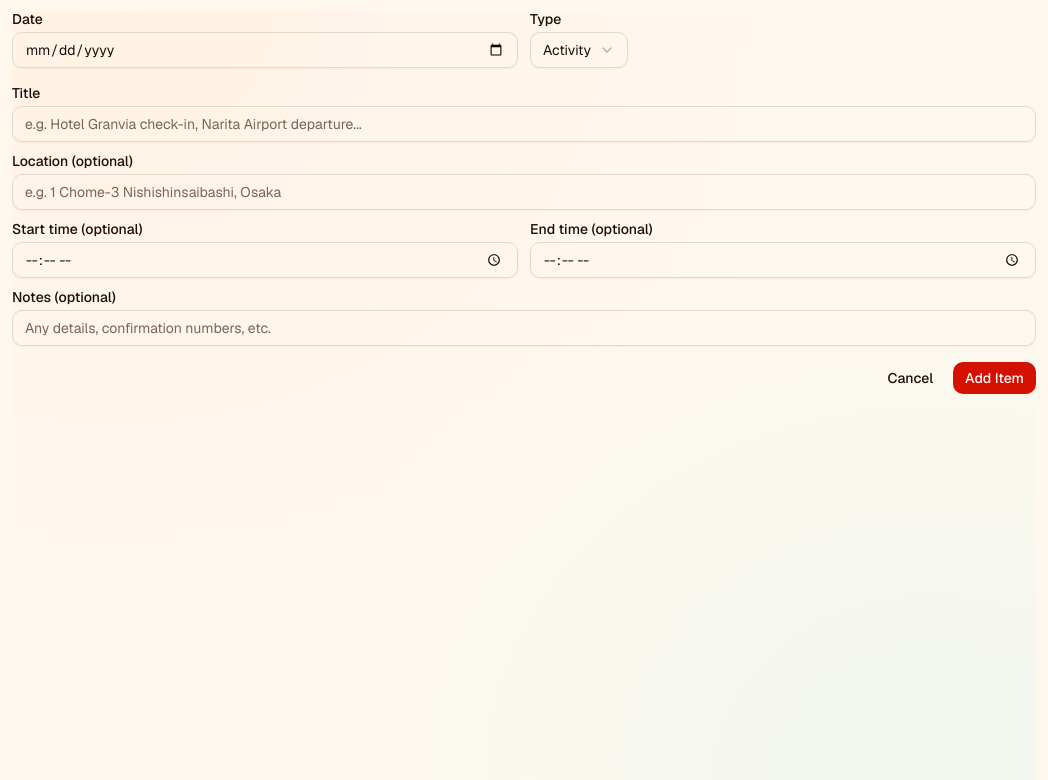
it: ItineraryForm behavior › shows API error message when server returns an error
In the date field labelled "Date": (265, 50) x1=12 y1=32 x2=518 y2=68, type "2026-07-04"
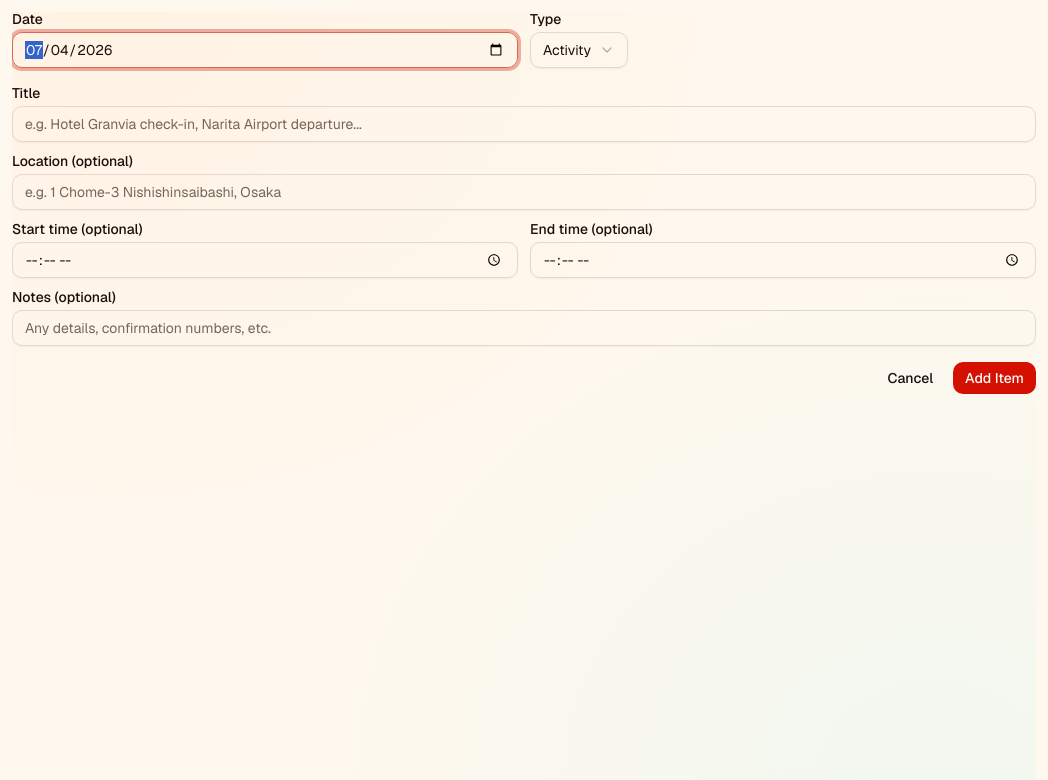
In the field labelled "Title": (524, 124) x1=12 y1=106 x2=1036 y2=142, type "City Tour"
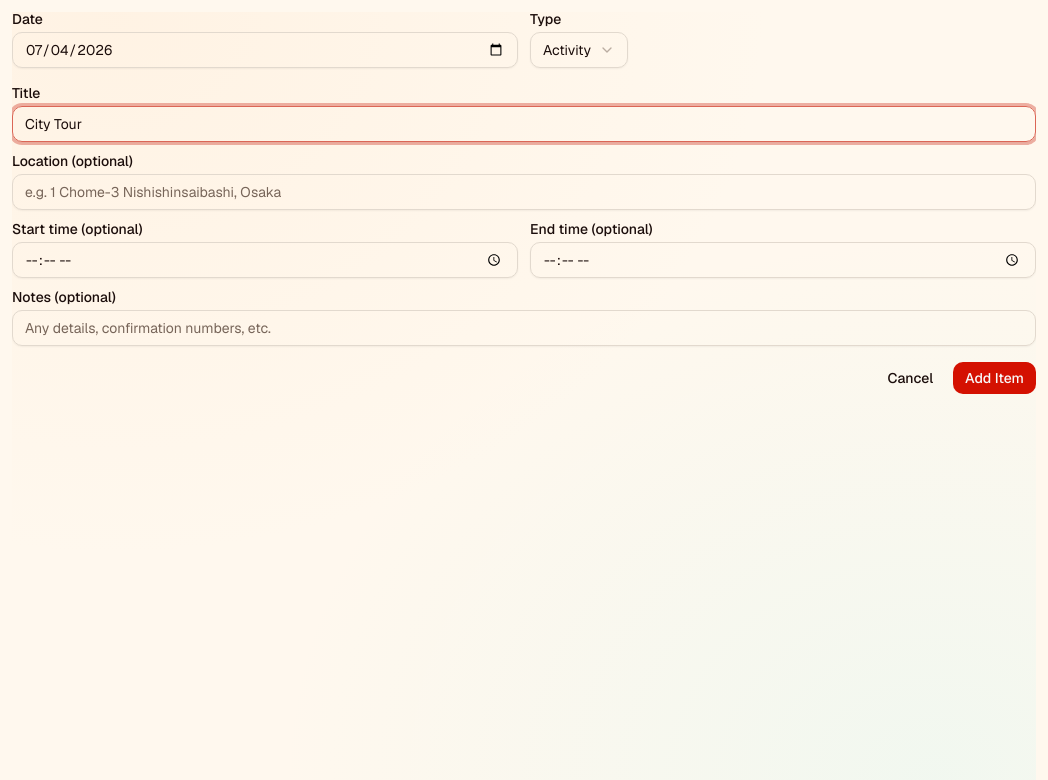
Click the button "Add Item": (995, 378) x1=953 y1=362 x2=1036 y2=394
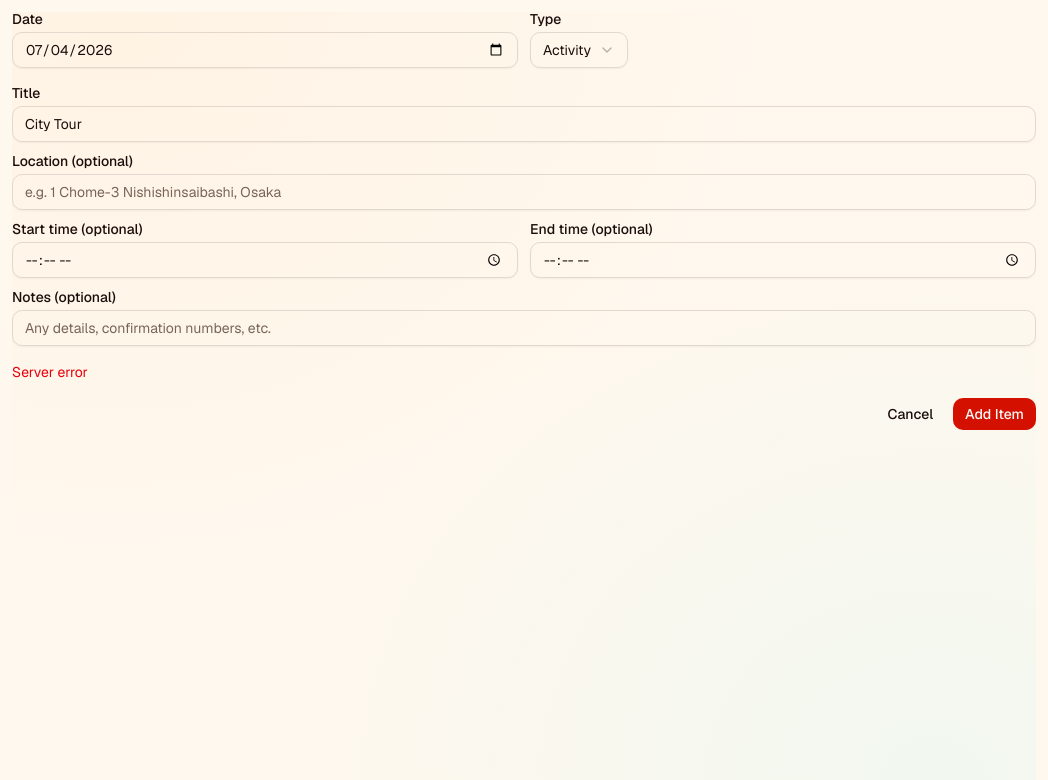
Expected: the text "Server error" is shown, x1=12 y1=363 x2=88 y2=381
